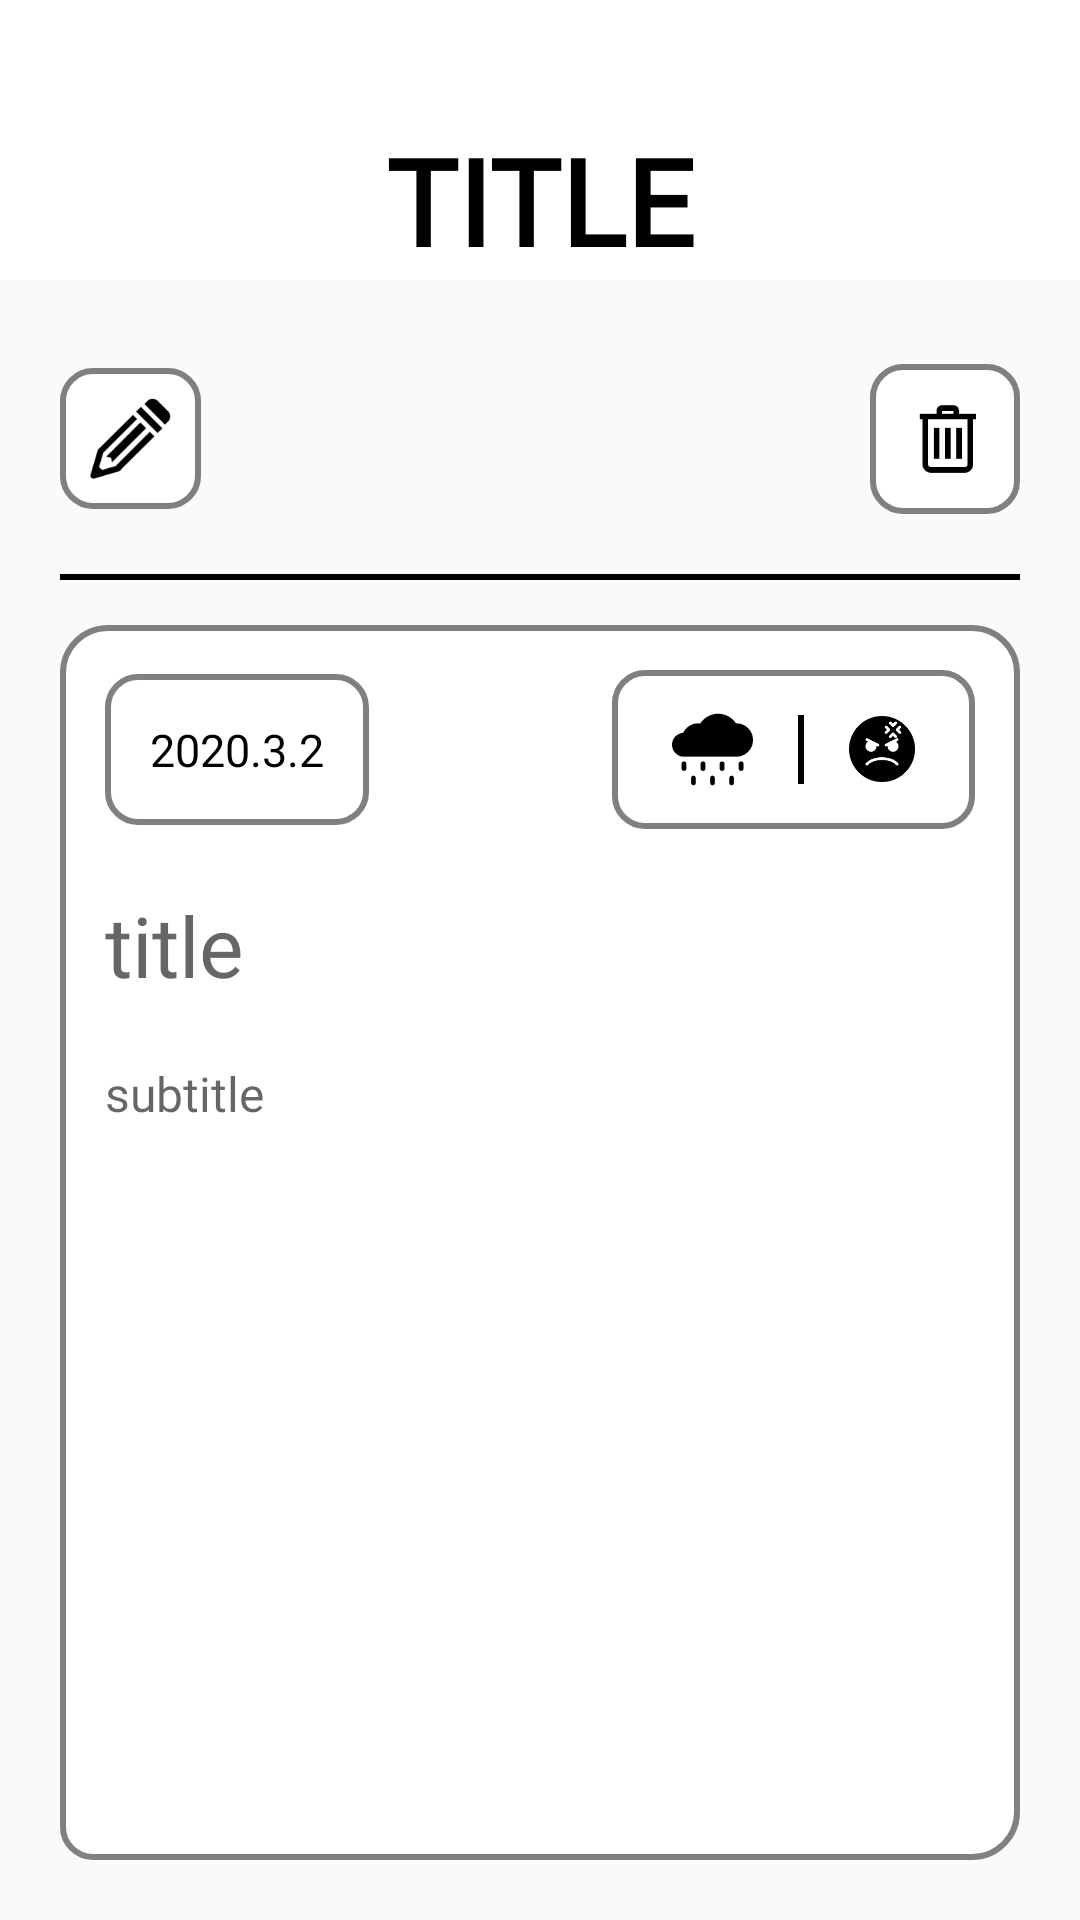

Point at icon controls on the screen. Image size 1080px x 1920px, points as point (x, y).
angry: point (882, 749)
edit: point (130, 438)
rain: point (712, 749)
trash: point (945, 439)
